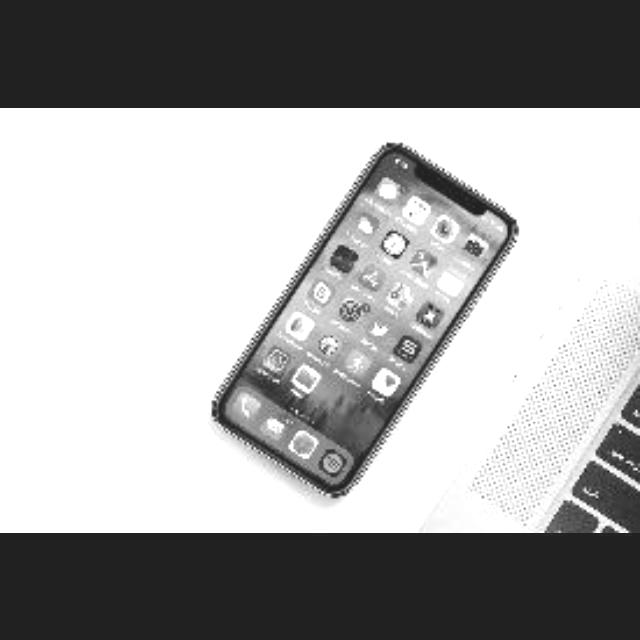fake: (208, 140, 516, 494)
